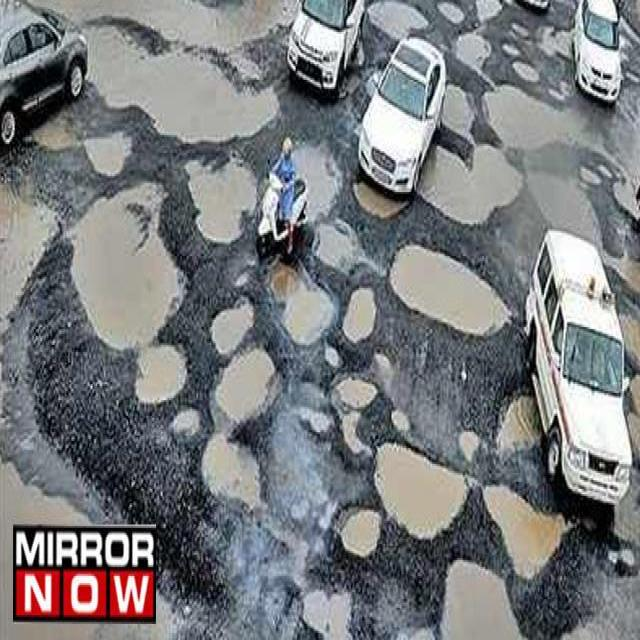Potholes: (0, 144, 197, 640), (0, 0, 286, 152), (50, 192, 195, 406), (40, 32, 284, 150), (482, 65, 640, 231), (504, 138, 640, 305), (364, 407, 484, 561), (396, 120, 526, 256), (388, 228, 516, 354), (393, 552, 539, 640), (472, 462, 574, 587), (595, 215, 640, 494), (198, 404, 296, 524), (264, 236, 334, 354), (185, 157, 258, 260), (304, 372, 379, 468), (300, 563, 379, 640), (203, 284, 278, 359), (495, 390, 561, 467), (336, 490, 399, 556), (445, 14, 503, 82), (335, 288, 392, 346), (373, 0, 425, 63), (476, 0, 510, 34), (434, 7, 466, 30)
